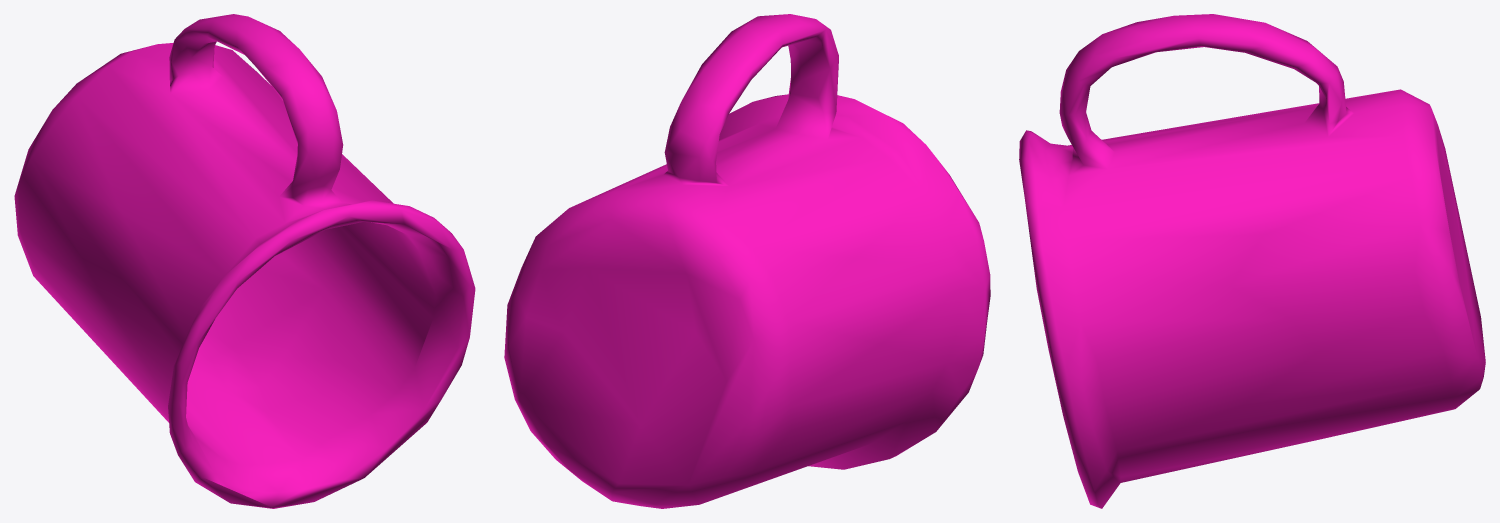
The model's file is mug3_5.dae.
3 renders of one model, left to right at view 1: azimuth 30°, elevation 25°; view 2: azimuth 150°, elevation 25°; view 3: azimuth 270°, elevation 25°, orthographic. The views are drawn at different scales.
Parts seen in each view (by area): view 1: RedCup_800_tex_019; view 2: RedCup_800_tex_019; view 3: RedCup_800_tex_019.
Part boxes in pixels (x1,y1,x2,y2): RedCup_800_tex_019: (14,14,475,508); RedCup_800_tex_019: (504,14,990,508); RedCup_800_tex_019: (1019,14,1485,508).
Bounding box in the file's own units: 0.1961 × 0.2414 × 0.2688.
